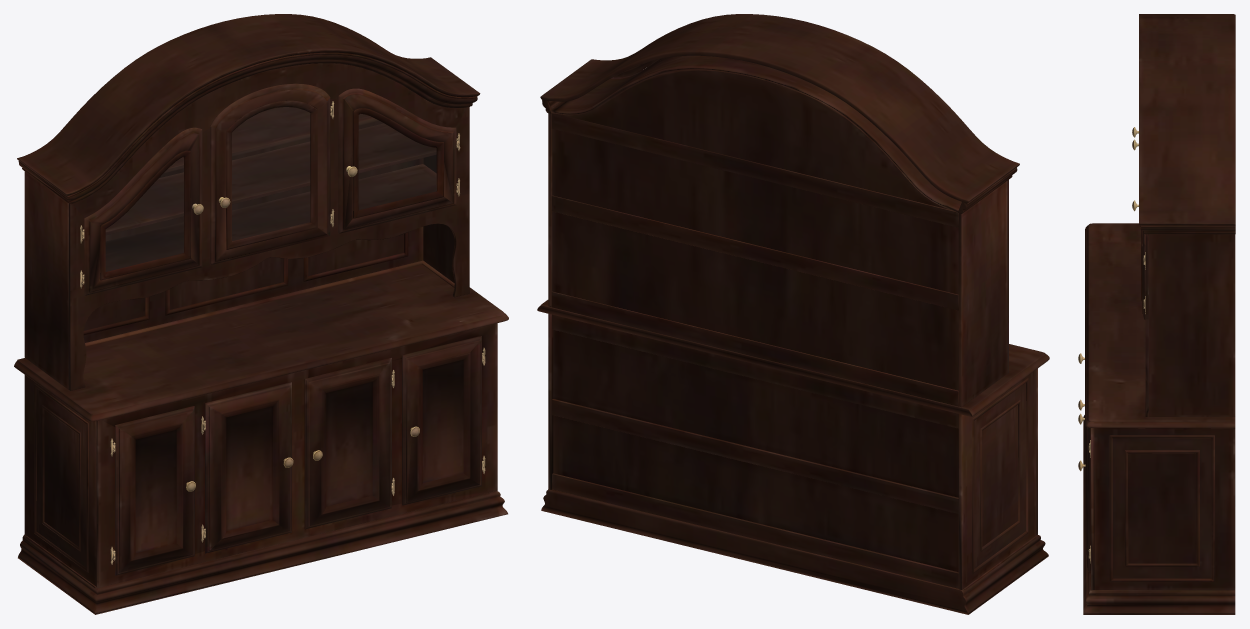
The model's file is ph-vintage_cabinet_01.glb.
The picture shows the model from 3 angles, left to right: view 1: azimuth 30°, elevation 25°; view 2: azimuth 150°, elevation 25°; view 3: azimuth 270°, elevation 25°; orthographic projection. The views are drawn at different scales.
Parts seen in each view (by area): view 1: vintage_cabinet_01_body, vintage_cabinet_01_door_01; view 2: vintage_cabinet_01_body; view 3: vintage_cabinet_01_body.
Part boxes in pixels (bbox=[...]): vintage_cabinet_01_body: bbox=[14, 14, 508, 614]; vintage_cabinet_01_door_01: bbox=[106, 107, 436, 271]; vintage_cabinet_01_body: bbox=[537, 14, 1049, 614]; vintage_cabinet_01_body: bbox=[1078, 14, 1235, 614].
Bounding box in the file's own units: 0.9045 × 1 × 0.2997.
3 materials, 2 textured.
